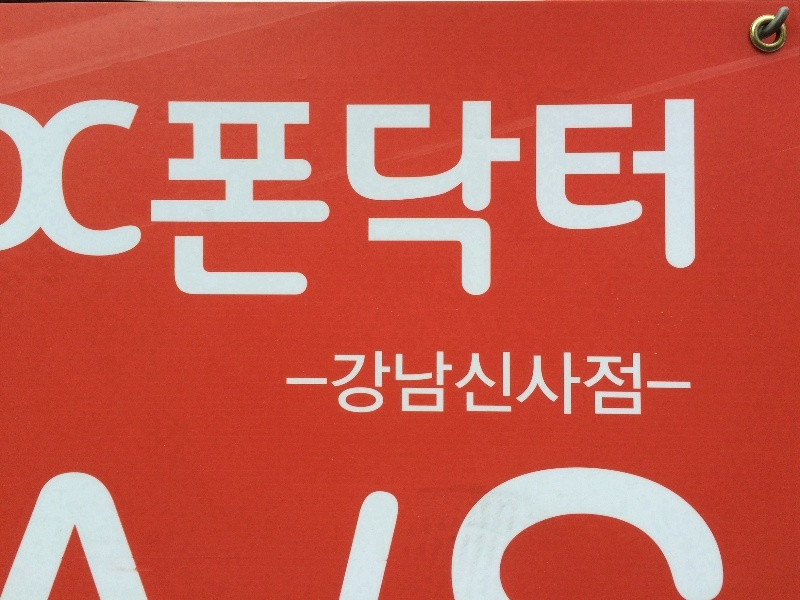text: (161, 97, 176, 304), (177, 97, 192, 304), (193, 97, 208, 304), (209, 97, 224, 304), (225, 97, 240, 304), (241, 97, 256, 304), (257, 97, 272, 304), (273, 97, 288, 304), (289, 97, 304, 304), (305, 97, 320, 304), (321, 97, 336, 304), (337, 97, 352, 304), (353, 97, 368, 304), (369, 97, 384, 304), (385, 97, 400, 304), (401, 97, 416, 304), (417, 97, 432, 304), (433, 97, 448, 304), (449, 97, 464, 304), (465, 97, 480, 304), (481, 97, 496, 304), (497, 97, 512, 304), (513, 97, 528, 304), (529, 97, 544, 304), (545, 97, 560, 304), (561, 97, 576, 304), (577, 97, 592, 304), (593, 97, 608, 304), (609, 97, 624, 304), (625, 97, 640, 304), (641, 97, 656, 304), (657, 97, 672, 304), (673, 97, 688, 304), (689, 97, 700, 304), (49, 465, 64, 600), (65, 465, 80, 600), (81, 465, 96, 600), (97, 465, 112, 600), (113, 465, 128, 600), (129, 465, 144, 600), (145, 465, 160, 600), (161, 465, 176, 600), (177, 465, 192, 600), (193, 465, 208, 600), (209, 465, 224, 600), (225, 465, 240, 600), (241, 465, 256, 600), (257, 465, 272, 600), (273, 465, 288, 600), (289, 465, 304, 600), (305, 465, 320, 600), (321, 465, 336, 600), (337, 465, 352, 600), (353, 465, 368, 600), (369, 465, 384, 600), (385, 465, 400, 600), (401, 465, 416, 600), (417, 465, 432, 600), (433, 465, 448, 600), (449, 465, 464, 600), (465, 465, 480, 600), (481, 465, 496, 600), (497, 465, 512, 600), (513, 465, 528, 600), (529, 465, 544, 600), (545, 465, 560, 600), (561, 465, 576, 600), (577, 465, 592, 600), (593, 465, 608, 600), (609, 465, 624, 600), (625, 465, 640, 600), (641, 465, 656, 600), (657, 465, 672, 600), (673, 465, 688, 600), (689, 465, 704, 600), (705, 465, 720, 600), (337, 350, 352, 417), (353, 350, 368, 417), (369, 350, 384, 417), (385, 350, 400, 417), (401, 350, 416, 417), (417, 350, 432, 417), (433, 350, 448, 417), (449, 350, 464, 417), (465, 350, 480, 417), (481, 350, 496, 417), (497, 350, 512, 417), (513, 350, 528, 417), (529, 350, 544, 417), (545, 350, 560, 417), (561, 350, 576, 417), (577, 350, 592, 417), (593, 350, 608, 417), (609, 350, 624, 417), (625, 350, 640, 417), (721, 465, 726, 600), (157, 97, 160, 304), (45, 465, 48, 600), (333, 350, 336, 417), (641, 350, 643, 417)
